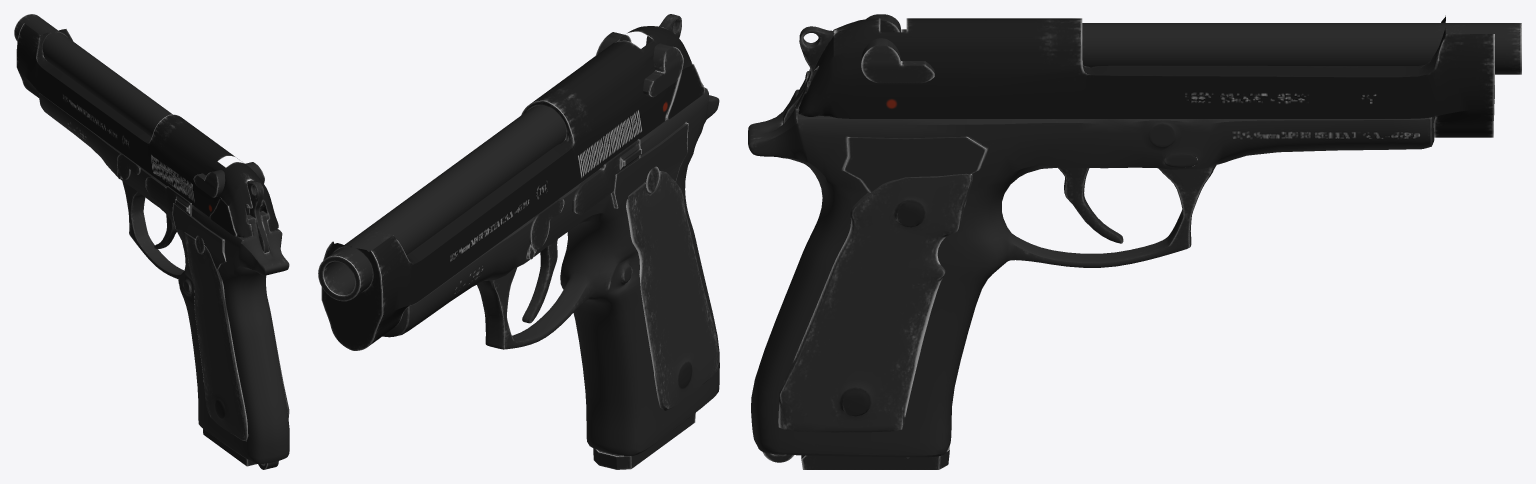
3 renders of one model, left to right at view 1: azimuth 30°, elevation 25°; view 2: azimuth 150°, elevation 25°; view 3: azimuth 270°, elevation 25°, orthographic. The views are drawn at different scales.
Size of the model in its own units: 0.0246 by 0.1361 by 0.217.
1 material, 1 textured.
